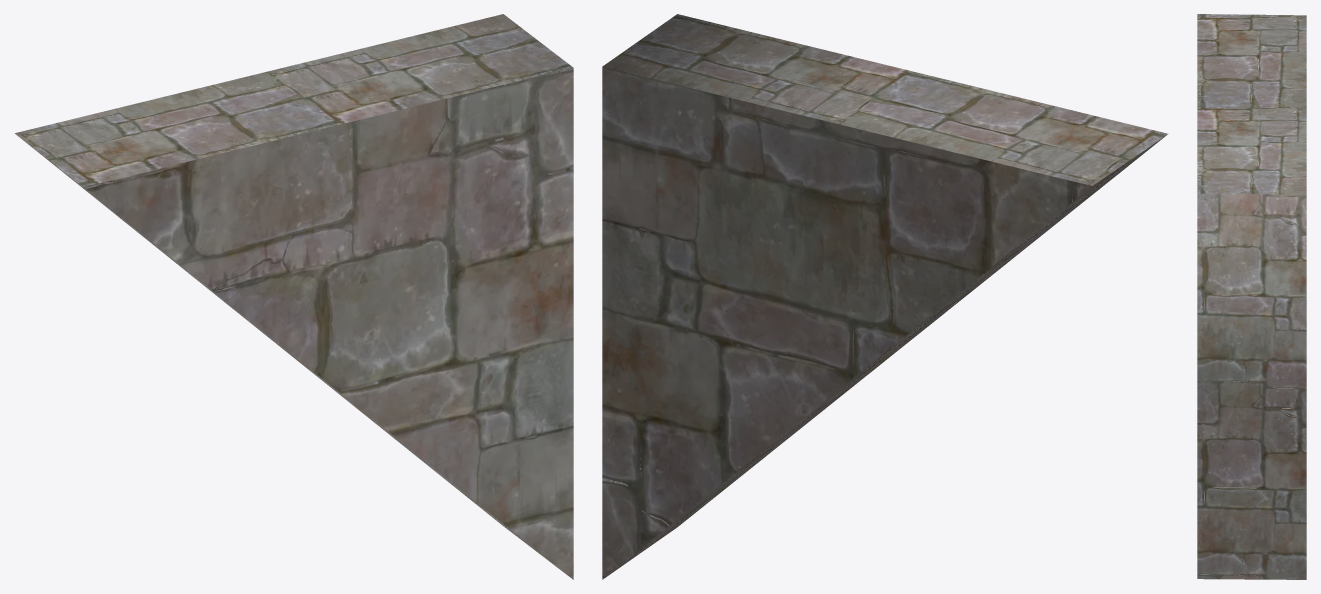
3 renders of one model, left to right at view 1: azimuth 30°, elevation 25°; view 2: azimuth 150°, elevation 25°; view 3: azimuth 270°, elevation 25°, orthographic. The views are drawn at different scales.
Visible parts, largest first — view 1: SM_BB_T3_Wall_Slanted_Med_Inverted_LOD0; view 2: SM_BB_T3_Wall_Slanted_Med_Inverted_LOD0; view 3: SM_BB_T3_Wall_Slanted_Med_Inverted_LOD0.
Boxes of the visible parts, x1,y1,x2,y2 form: SM_BB_T3_Wall_Slanted_Med_Inverted_LOD0: (15, 14, 573, 579); SM_BB_T3_Wall_Slanted_Med_Inverted_LOD0: (602, 14, 1168, 579); SM_BB_T3_Wall_Slanted_Med_Inverted_LOD0: (1197, 14, 1306, 579).
Size of the model in its own units: 1.51 by 1.5 by 0.3844.
Materials: 1 (1 with a texture image).
